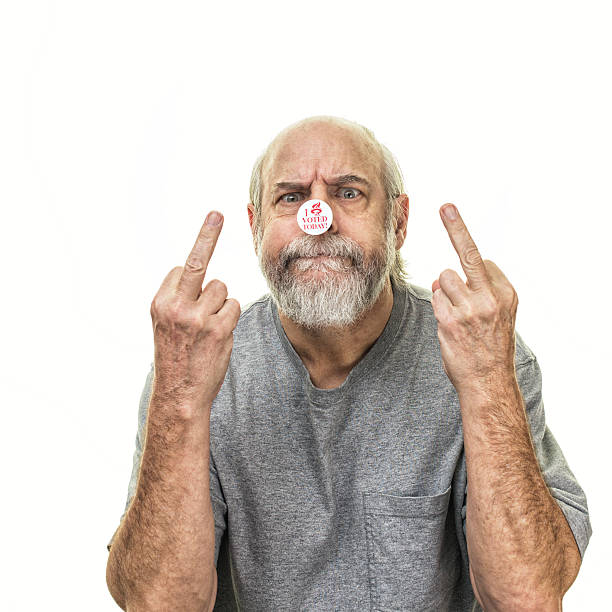insulting_gesture: (149, 204, 243, 412), (427, 201, 525, 393)
